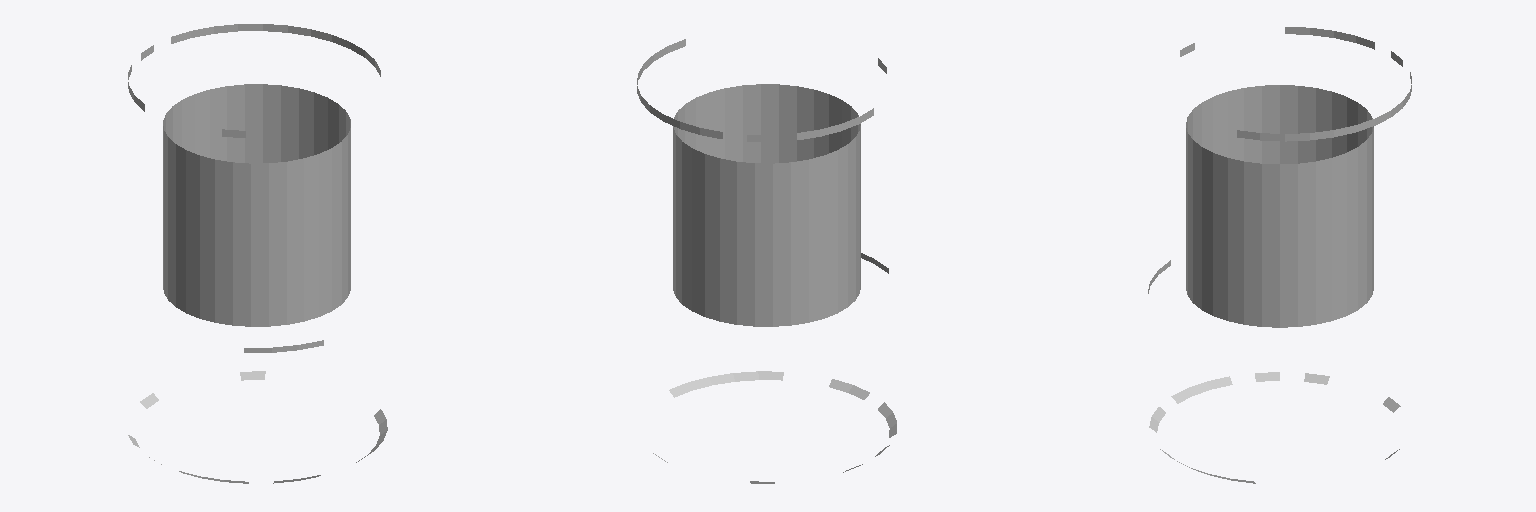
Rendered from PowerBlock1.obj.
3 views of the same model, side by side, from view 1: azimuth 30°, elevation 25°; view 2: azimuth 150°, elevation 25°; view 3: azimuth 270°, elevation 25° (orthographic).
Visible parts, largest first — view 1: Cylinder.002; view 2: Cylinder.002; view 3: Cylinder.002.
Boxes of the visible parts, x1,y1,x2,y2 form: Cylinder.002: [128, 24, 387, 483]; Cylinder.002: [637, 39, 896, 483]; Cylinder.002: [1148, 27, 1411, 483].
Size of the model in its own units: 0.9738 by 1.46 by 0.9951.